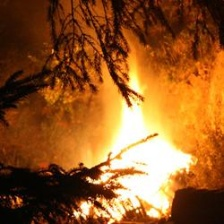fire: (80, 81, 196, 217)
